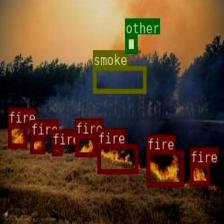fire: (146, 150, 182, 185), (96, 144, 138, 172), (74, 134, 96, 156), (7, 123, 26, 147), (189, 162, 209, 184), (30, 135, 44, 153), (51, 145, 61, 155)
smoke: (92, 66, 146, 92)
